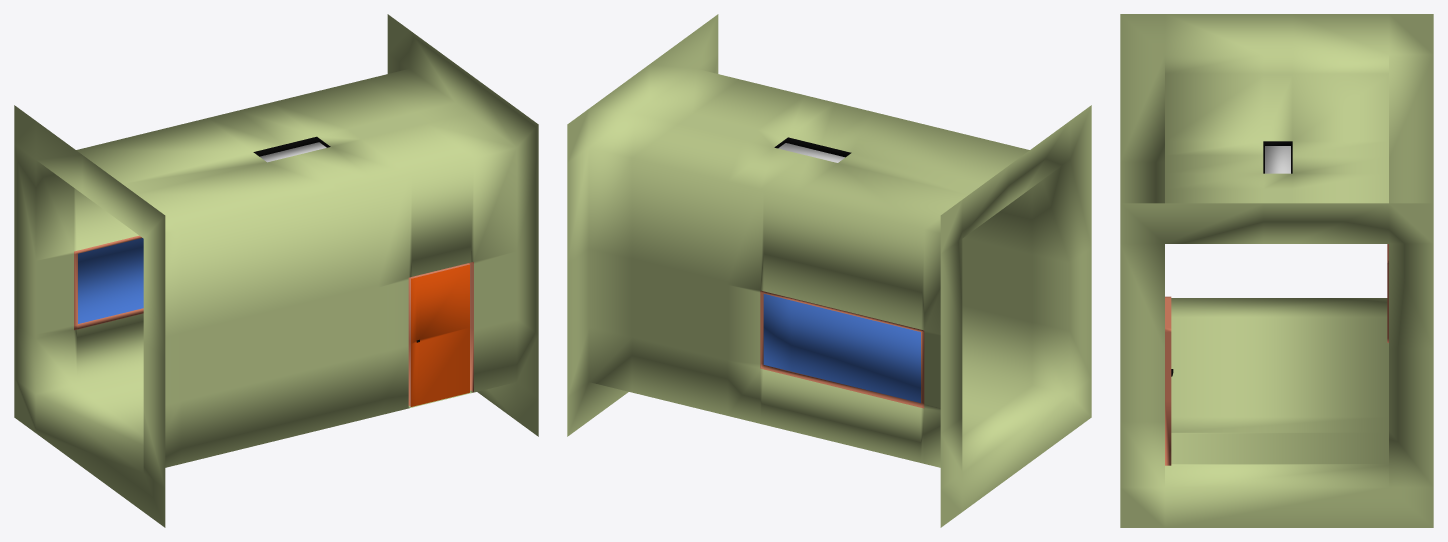
File: GangDeel_002.fbx
The picture shows the model from 3 angles, left to right: view 1: azimuth 30°, elevation 25°; view 2: azimuth 150°, elevation 25°; view 3: azimuth 270°, elevation 25°; orthographic projection. The views are drawn at different scales.
Parts seen in each view (by area): view 1: Cube; view 2: Cube; view 3: Cube.
Boxes of the visible parts, x1,y1,x2,y2 form: Cube: [14, 14, 538, 527]; Cube: [567, 14, 1091, 527]; Cube: [1120, 14, 1433, 527].
Size of the model in its own units: 10 by 8 by 7.
